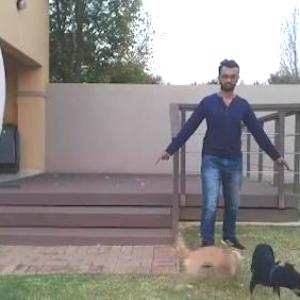land: (160, 57, 278, 262)
